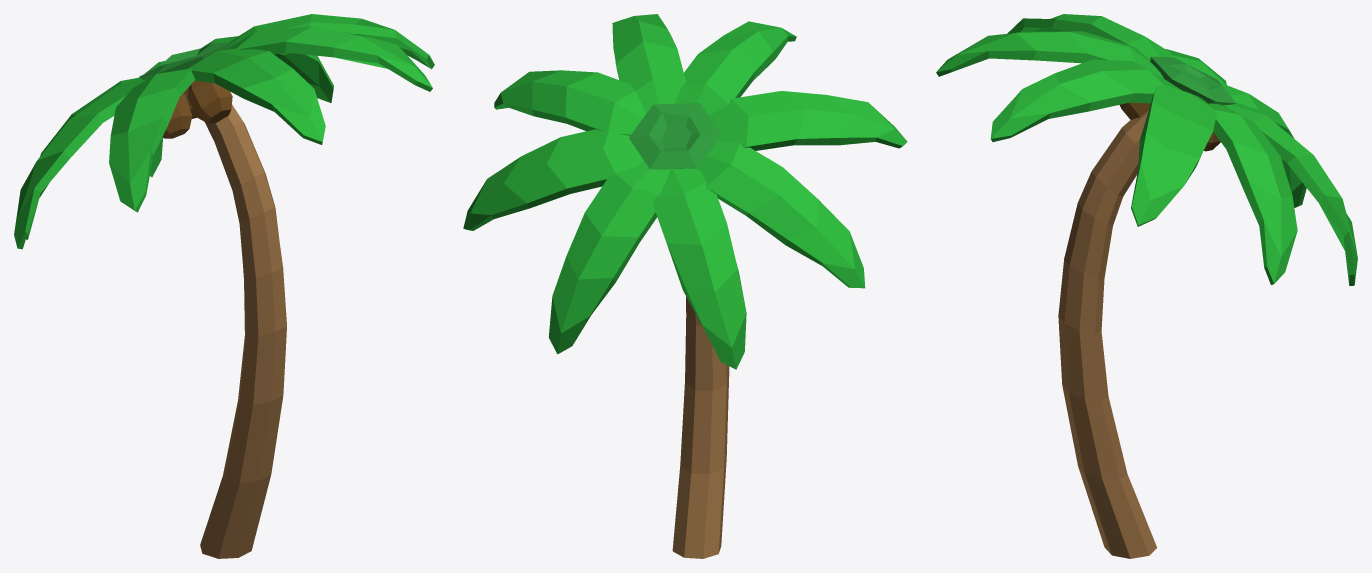
File: palmtree4.fbx
3 renders of one model, left to right at view 1: azimuth 30°, elevation 25°; view 2: azimuth 150°, elevation 25°; view 3: azimuth 270°, elevation 25°, orthographic. The views are drawn at different scales.
Visible parts, largest first — view 1: Cylinder, Cube.003, Cube.006, Cube.007, Cube.004, Cube.005, Cylinder.002, Cube.002, Cylinder.003, Cylinder.004; view 2: Cube, Cylinder, Cube.001, Cube.004, Cube.002, Cube.003, Cube.005, Cube.006, Cube.007, Cylinder.003; view 3: Cylinder, Cube.005, Cube.007, Cube.002, Cube.006, Cube.001, Cube.003, Cylinder.003, Cube, Cube.004.
Boxes of the visible parts, left/top/right/bottom form: Cylinder: left=200, top=104, right=286, bottom=558; Cube.003: left=109, top=68, right=195, bottom=212; Cube.006: left=188, top=48, right=325, bottom=144; Cube.007: left=228, top=26, right=432, bottom=91; Cube.004: left=14, top=79, right=146, bottom=249; Cube.005: left=228, top=14, right=434, bottom=69; Cylinder.002: left=188, top=80, right=232, bottom=123; Cube.002: left=202, top=36, right=333, bottom=102; Cylinder.003: left=139, top=42, right=231, bottom=79; Cylinder.004: left=162, top=93, right=192, bottom=138; Cube: left=653, top=168, right=746, bottom=369; Cylinder: left=672, top=296, right=729, bottom=558; Cube.001: left=548, top=162, right=670, bottom=354; Cube.004: left=697, top=141, right=865, bottom=288; Cube.002: left=463, top=129, right=644, bottom=230; Cube.003: left=709, top=91, right=907, bottom=150; Cube.005: left=494, top=70, right=645, bottom=135; Cube.006: left=675, top=21, right=796, bottom=115; Cube.007: left=612, top=14, right=685, bottom=113; Cylinder.003: left=629, top=103, right=721, bottom=169; Cylinder: left=1058, top=109, right=1156, bottom=558; Cube.005: left=1131, top=84, right=1216, bottom=226; Cube.007: left=990, top=59, right=1181, bottom=141; Cube.002: left=1208, top=103, right=1297, bottom=284; Cube.006: left=936, top=31, right=1163, bottom=78; Cube.001: left=1224, top=102, right=1357, bottom=285; Cube.003: left=1007, top=14, right=1171, bottom=59; Cylinder.003: left=1150, top=56, right=1235, bottom=105; Cube: left=1220, top=83, right=1306, bottom=207; Cube.004: left=1166, top=49, right=1226, bottom=84.
Bounding box in the file's own units: 896 × 1083 × 809.
